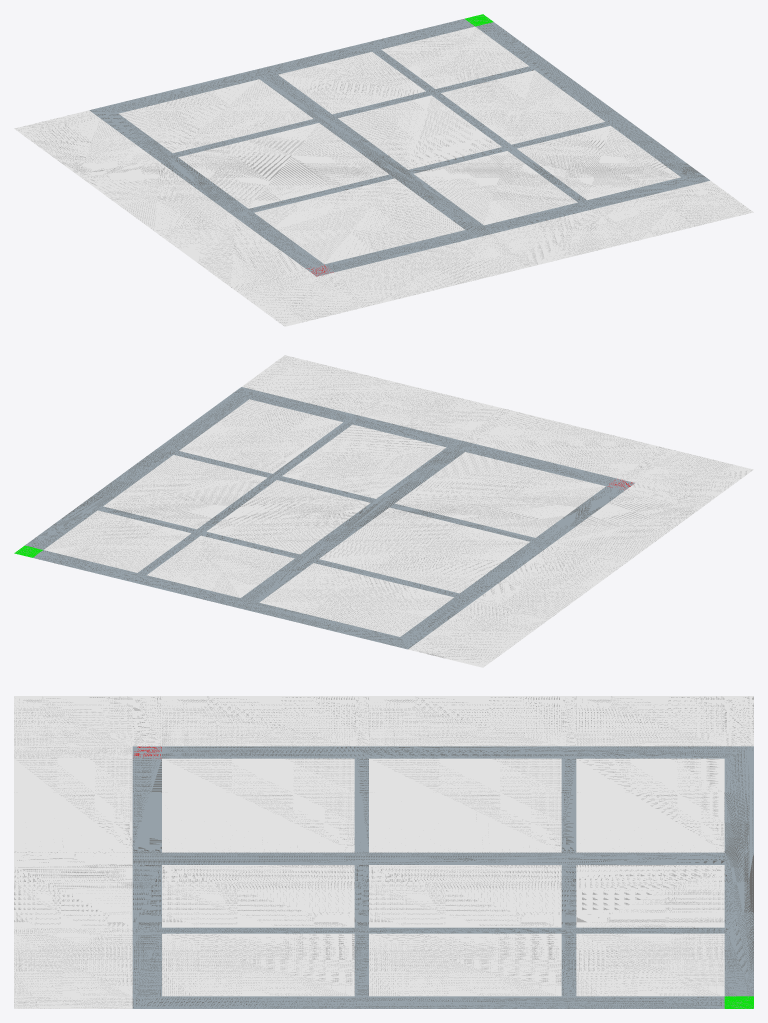
The model's file is stage4-angry_minimap.fbx.
3 renders of one model, top to bottom at view 1: azimuth 30°, elevation 25°; view 2: azimuth 150°, elevation 25°; view 3: azimuth 270°, elevation 25°, orthographic. The views are drawn at different scales.
Parts seen in each view (by area): view 1: Group1, Model; view 2: Group1, Model; view 3: Group1, Model.
Boxes of the visible parts, x1,y1,x2,y2 form: Group1: [14, 26, 753, 326]; Model: [89, 14, 709, 276]; Group1: [44, 355, 753, 667]; Model: [14, 387, 634, 649]; Group1: [14, 696, 753, 1008]; Model: [132, 746, 753, 1008].
Size of the model in its own units: 500 by 2.93e-13 by 500.
